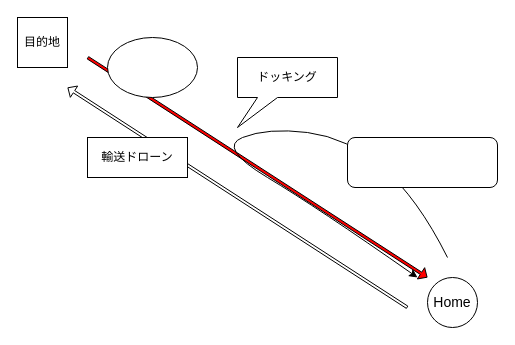
The diagram is 515 pixels wide and 345 high, and some of its shapes have lost their labels. Each missing label, with the centre of its shape:
"バッテリー不足" goes at (152,67).
"ピックアップドローン" goes at (422,162).
